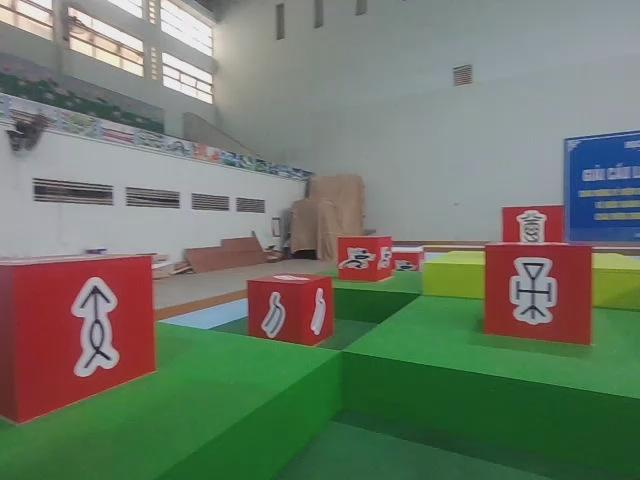R1: (335, 233, 395, 282)
R2 Fake: (499, 203, 566, 253)
R2 Real: (0, 251, 159, 427), (480, 239, 599, 352), (242, 271, 336, 352)
